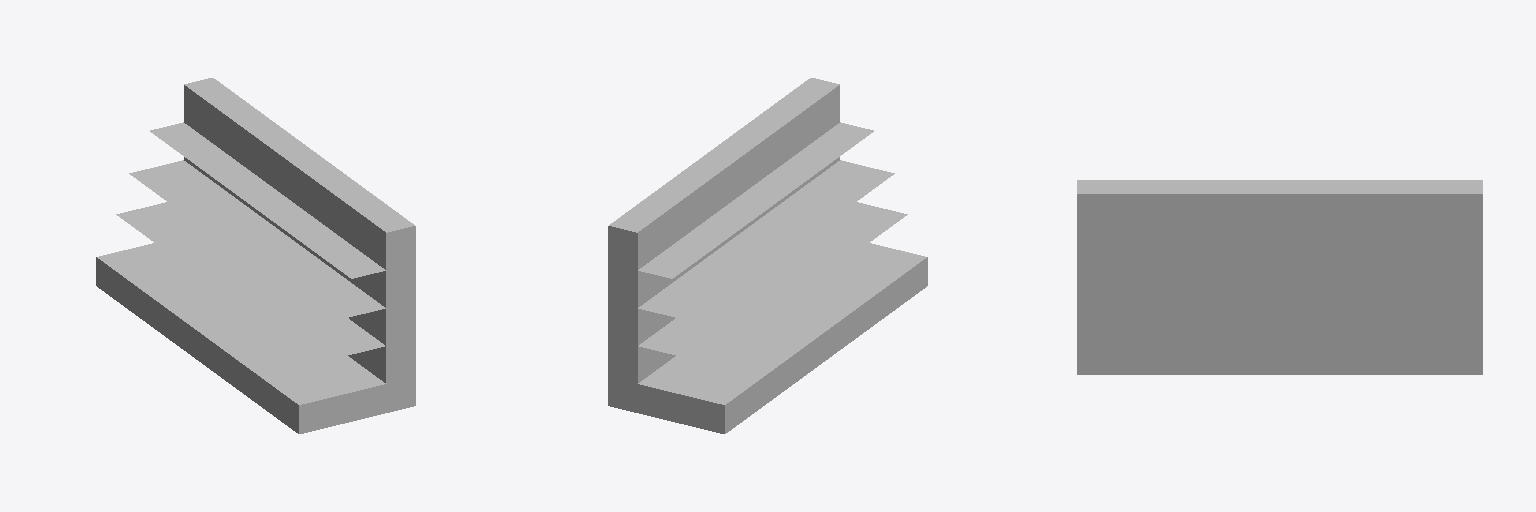
File: shelf.obj
The picture shows the model from 3 angles: view 1: azimuth 30°, elevation 25°; view 2: azimuth 150°, elevation 25°; view 3: azimuth 270°, elevation 25°; orthographic projection.
Visible parts, largest first — view 1: Cube; view 2: Cube; view 3: Cube.
Boxes of the visible parts, <box> form: Cube: <box>96,78,415,433</box>; Cube: <box>608,78,927,433</box>; Cube: <box>1077,180,1482,374</box>.
Size of the model in its own units: 2 by 2.96 by 6.02.